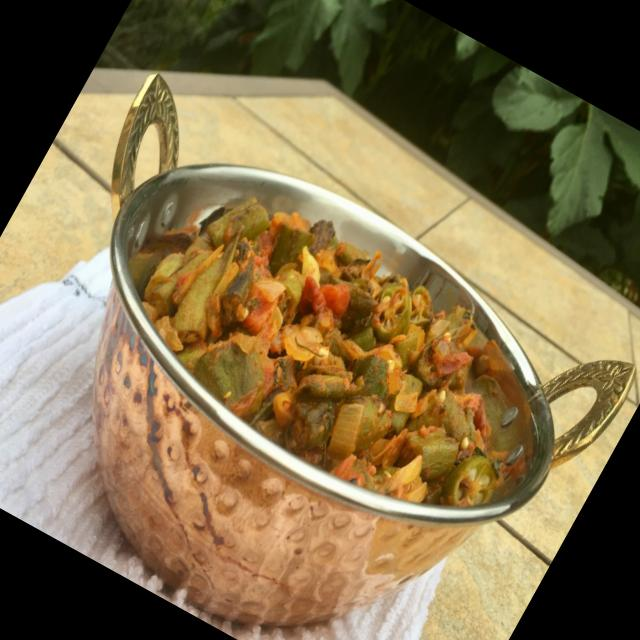BhindiMasala: (84, 145, 573, 552)
